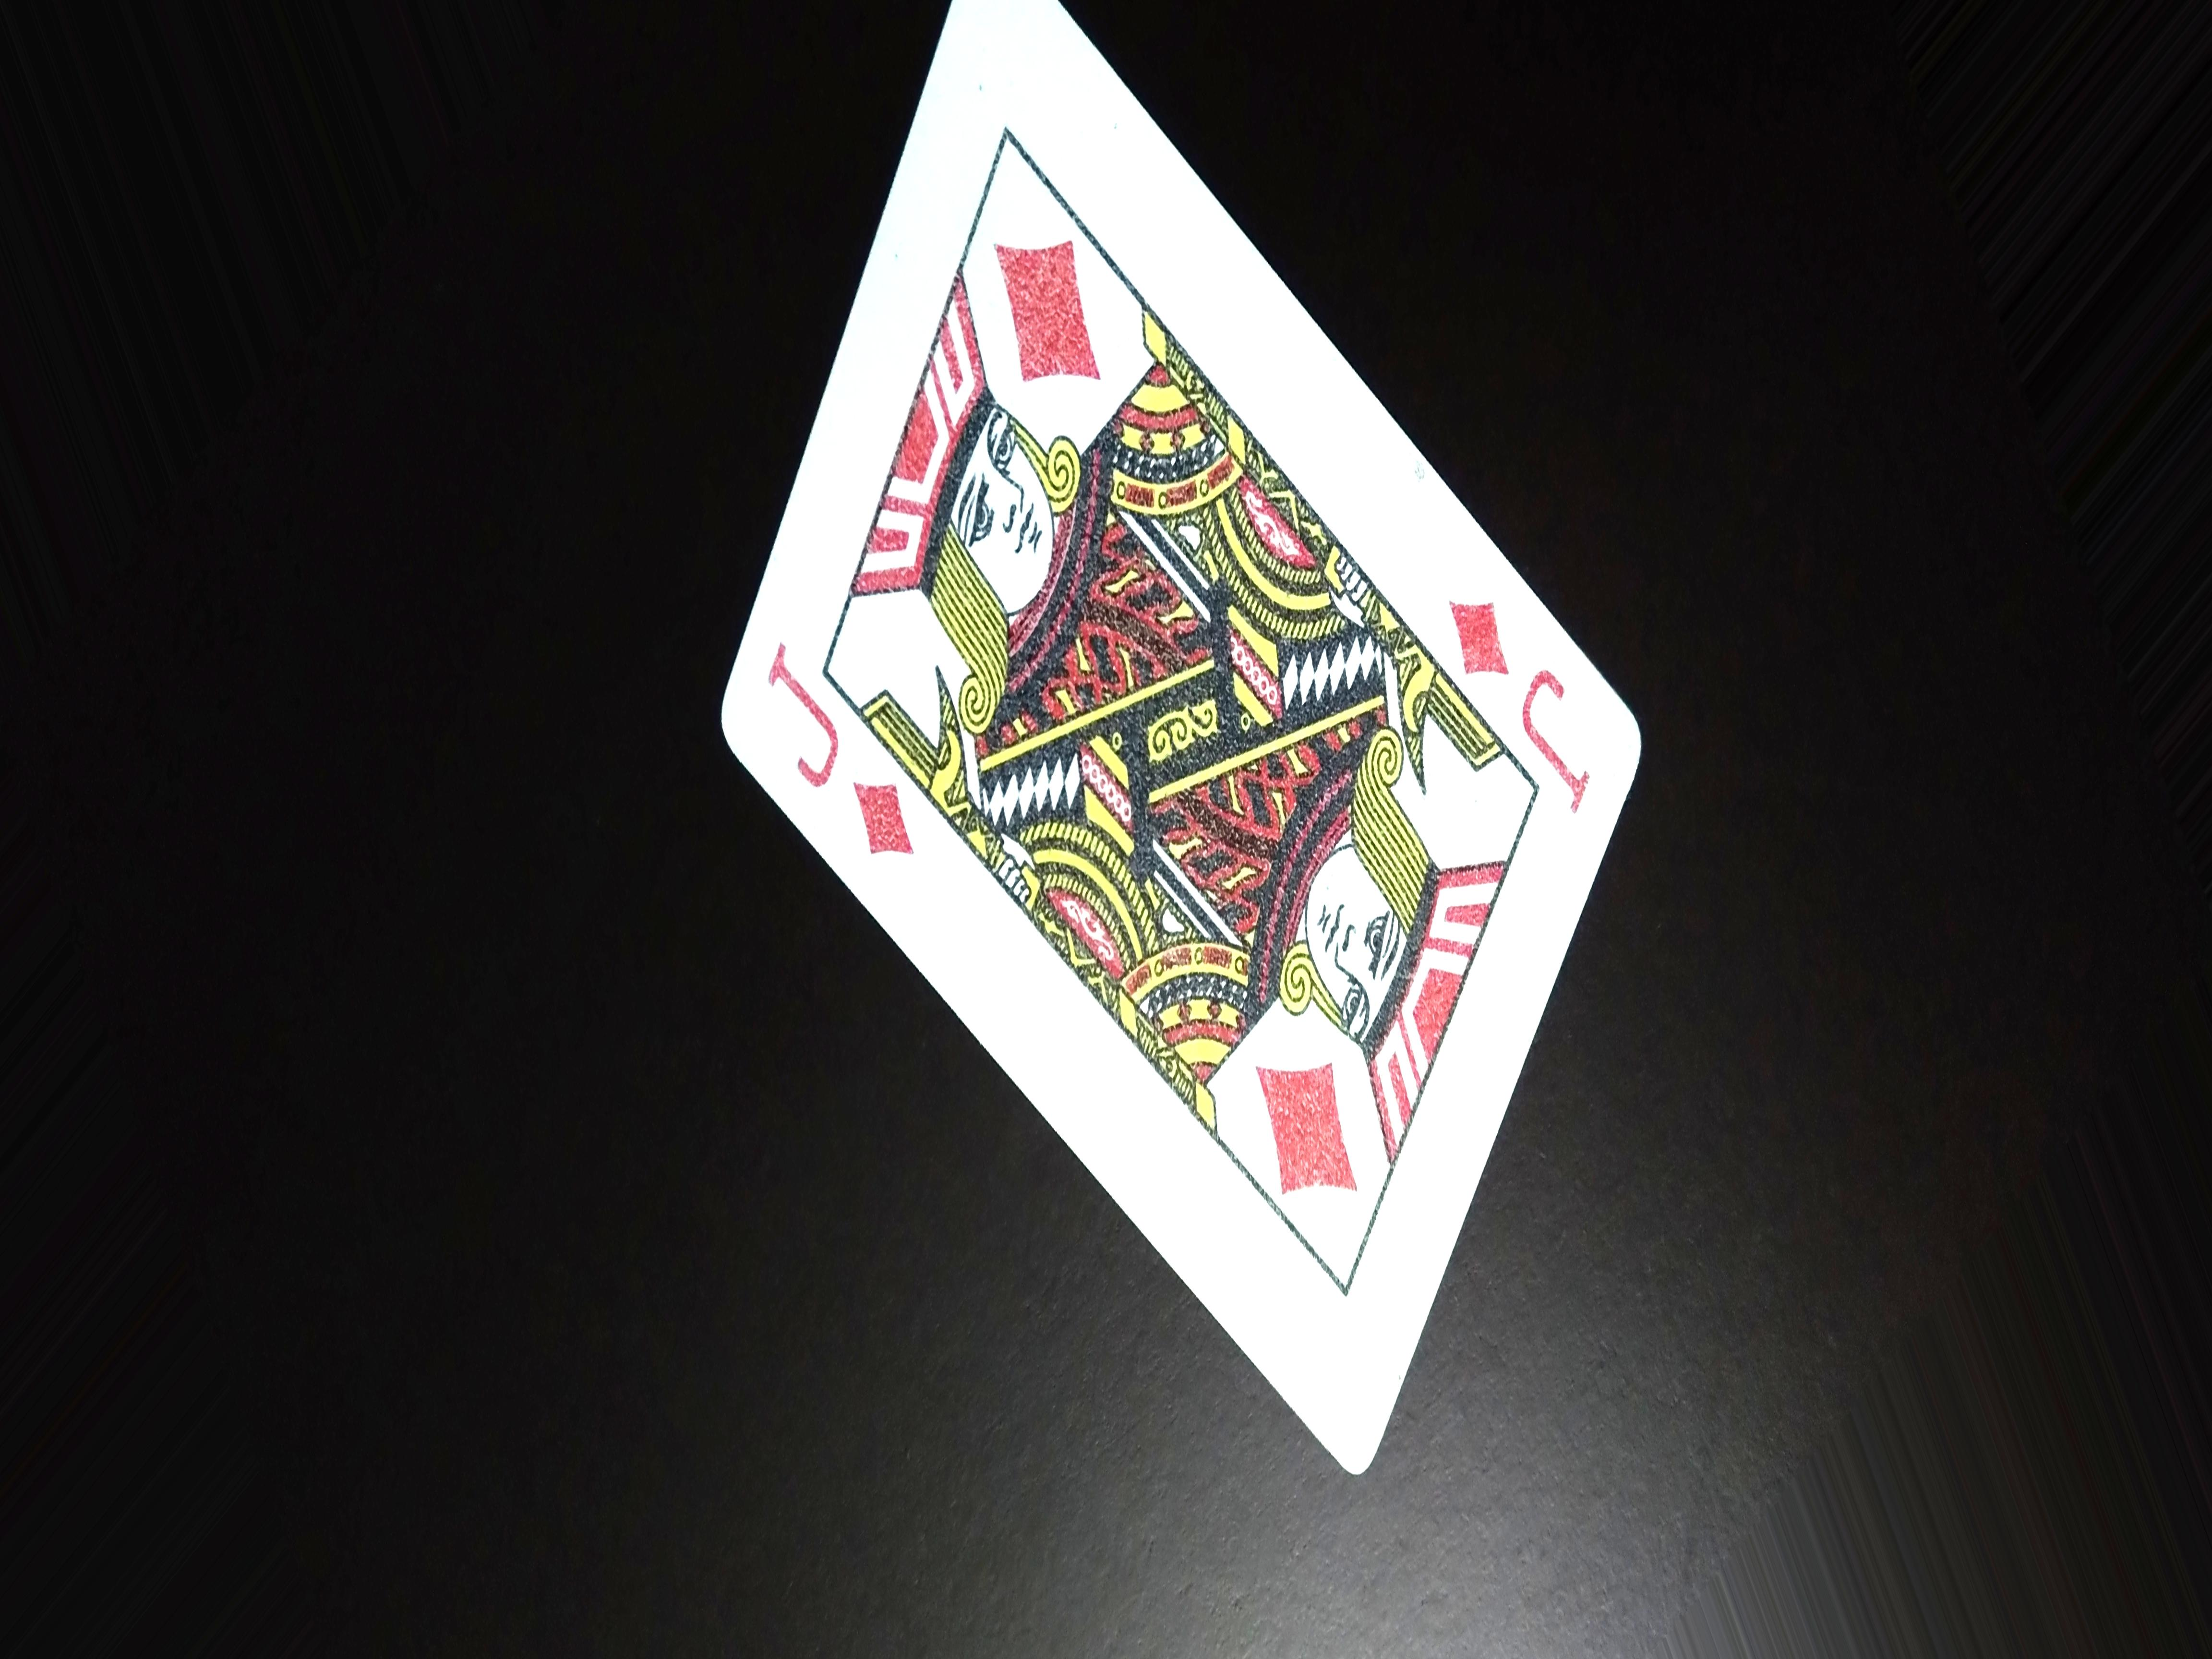JD: (756, 650, 941, 906)
